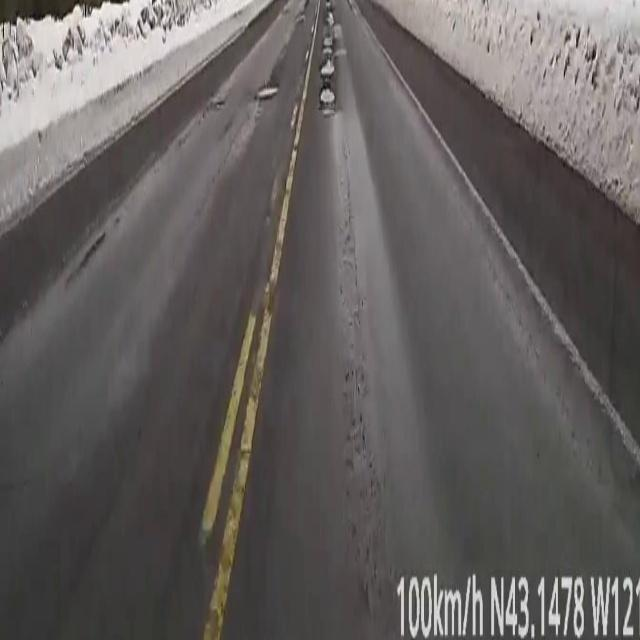pothole: (320, 0, 340, 110), (258, 78, 278, 104)
